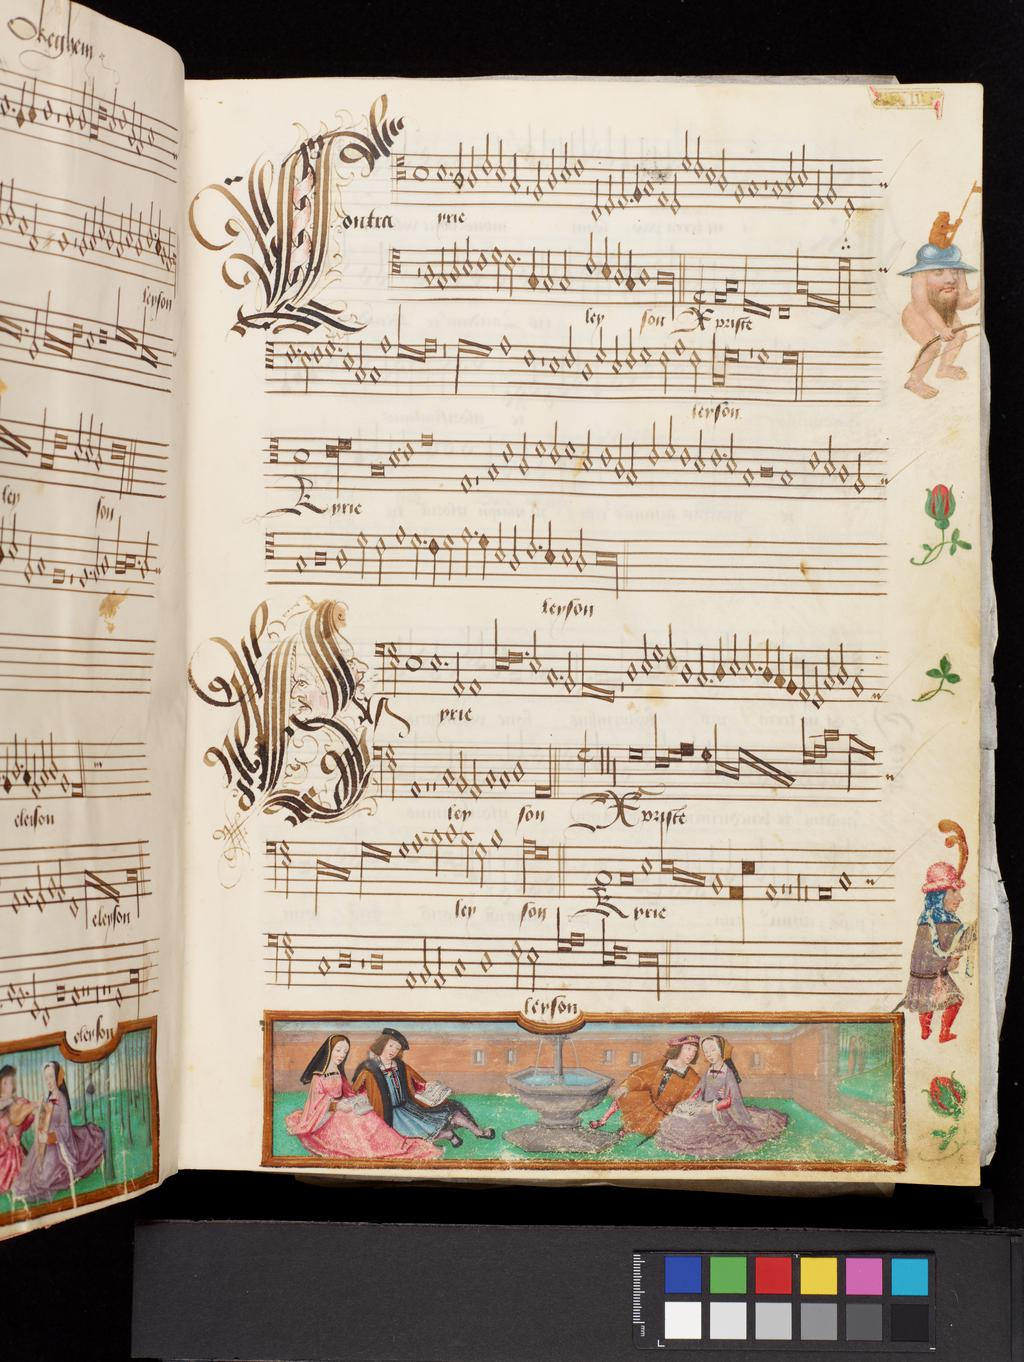Pmin: (406, 155, 433, 191)
c clef_5: (390, 148, 408, 196)
custos_7: (873, 160, 904, 199)
minim rest: (522, 147, 532, 215)
minim_10: (811, 161, 826, 215), (616, 162, 630, 216)
minim_11: (602, 166, 616, 219), (668, 166, 682, 218)
minim_12: (589, 170, 605, 225)
minim_4: (678, 127, 693, 175)
minim_5: (691, 129, 706, 183), (480, 127, 494, 178)
minim_6: (558, 136, 574, 187), (796, 138, 811, 191), (493, 134, 508, 187)
minim_7: (716, 141, 731, 198), (545, 140, 560, 195), (464, 138, 479, 191), (452, 137, 466, 194), (784, 144, 798, 197), (512, 144, 523, 198)
minim_9: (530, 148, 546, 207), (824, 155, 839, 207)
point: (444, 164, 456, 182), (624, 191, 635, 205)
semibreve rest: (760, 152, 770, 216)
semibreve_10: (654, 184, 669, 212)
semibreve_11: (839, 188, 859, 225)
semibreve_5: (571, 151, 588, 183)
semibreve_6: (702, 160, 717, 190), (435, 157, 449, 188)
semibreve_8: (769, 170, 785, 205), (745, 169, 760, 203), (642, 173, 657, 199)
semibreve_9: (731, 174, 746, 210)
semiminim_9: (630, 157, 643, 208)
